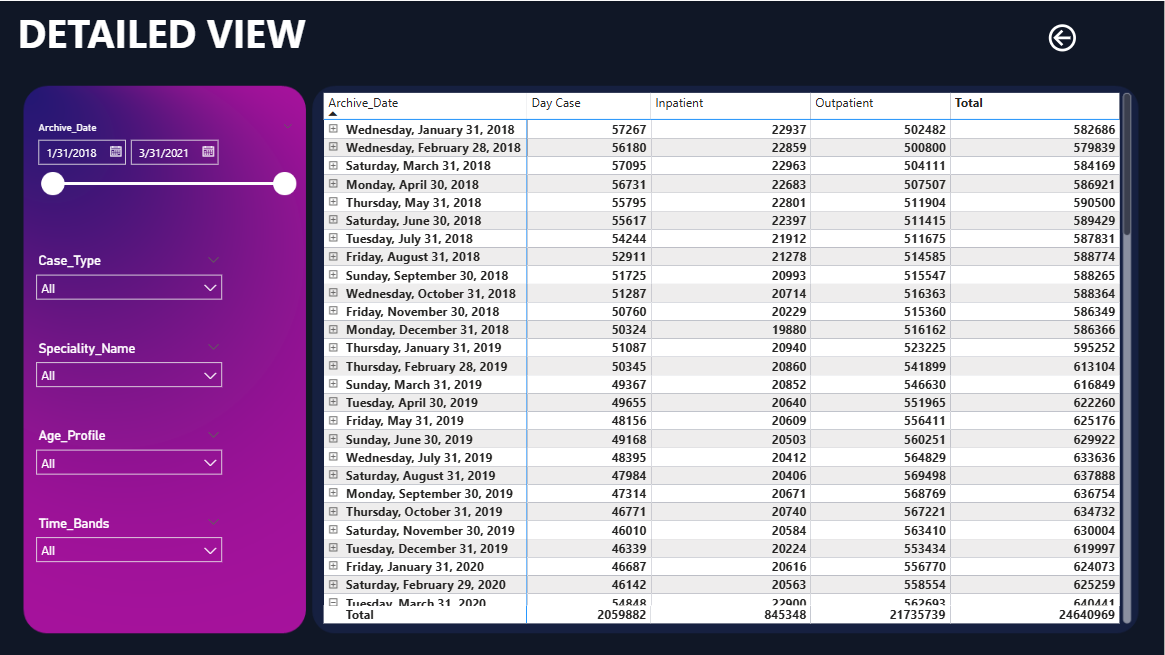

Layout of this report page (visuals, bound fields, positions):
{"tool":"powerbi","page":{"name":"Detail","canvas":[1280,720],"ordinal":1},"visuals":[{"type":"slicer","fields":{"Values":["All_Data.Speciality_Name"]},"box":[32,368,224,64],"z":0},{"type":"slicer","fields":{"Values":["All_Data.Archive_Date"]},"box":[32,128,304,112],"z":1000},{"type":"slicer","fields":{"Values":["All_Data.Case_Type"]},"box":[32,272,224,64],"z":2000},{"type":"textbox","box":[16,0,384,80],"z":3000},{"type":"slicer","fields":{"Values":["All_Data.Age_Profile"]},"box":[32,464,224,64],"z":4000},{"type":"slicer","fields":{"Values":["All_Data.Time_Bands"]},"box":[32,560,224,64],"z":5000},{"type":"pivotTable","fields":{"Rows":["All_Data.Archive_Date","All_Data.Specialty_Name","All_Data.Age_Profile","All_Data.Time_Bands"],"Columns":["All_Data.Case_Type"],"Values":["Sum(All_Data.Total)"]},"box":[352,96,896,592],"z":6000},{"type":"actionButton","box":[1148.5,20.6,100.2,39.8],"z":7000}]}

Visuals, with their boxes in screenshot pixels (x1, y1, x2, y2), scaled from the page's 1280x720 canvas onto the 1165x655 screenshot:
slicer - All_Data.Speciality_Name: 29/335/233/393
slicer - All_Data.Archive_Date: 29/116/306/218
slicer - All_Data.Case_Type: 29/247/233/306
textbox: 15/0/364/73
slicer - All_Data.Age_Profile: 29/422/233/480
slicer - All_Data.Time_Bands: 29/509/233/568
pivotTable - All_Data.Archive_Date x All_Data.Specialty_Name: 320/87/1136/626
actionButton: 1045/19/1137/55
